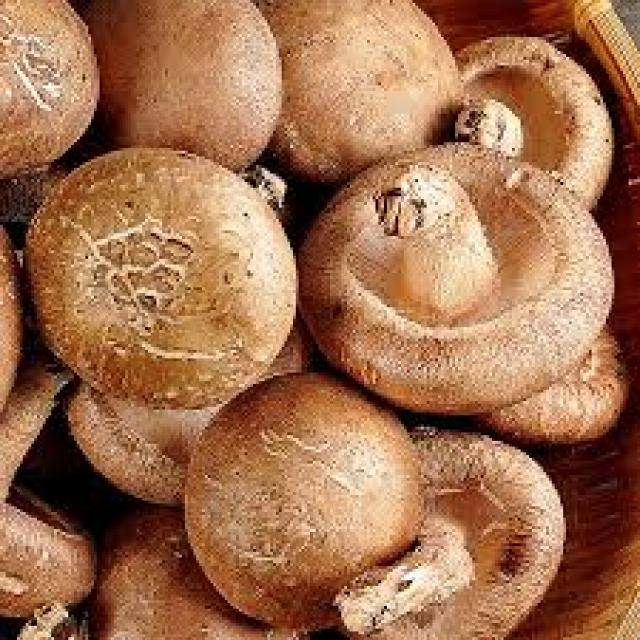Mushroom: (299, 142, 614, 415), (26, 148, 299, 410), (185, 375, 424, 629)
